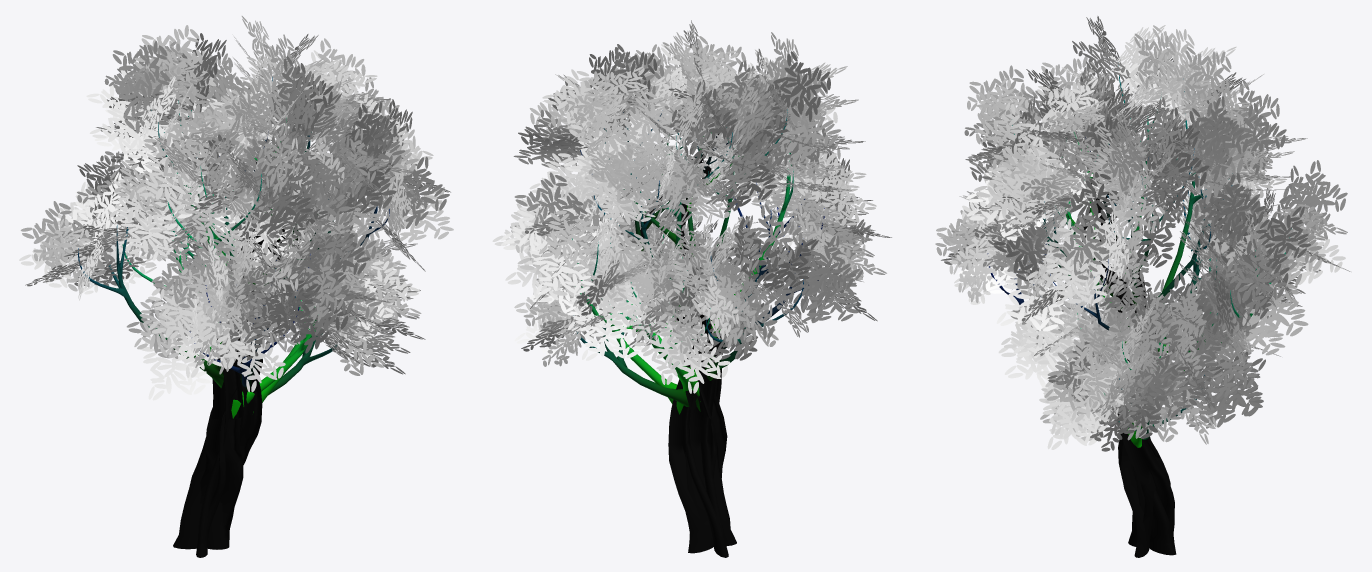
The model's file is tree3.fbx.
3 renders of one model, left to right at view 1: azimuth 30°, elevation 25°; view 2: azimuth 150°, elevation 25°; view 3: azimuth 270°, elevation 25°, orthographic. The views are drawn at different scales.
Visible parts, largest first — view 1: Tree_1, Tree_0; view 2: Tree_1, Tree_0; view 3: Tree_1, Tree_0.
Boxes of the visible parts, <box> form: Tree_1: <box>19,16,453,400</box>; Tree_0: <box>78,77,389,557</box>; Tree_1: <box>492,20,891,393</box>; Tree_0: <box>572,109,824,557</box>; Tree_1: <box>935,16,1350,451</box>; Tree_0: <box>987,65,1291,557</box>.
Bounding box in the file's own units: 378 × 470 × 362.
